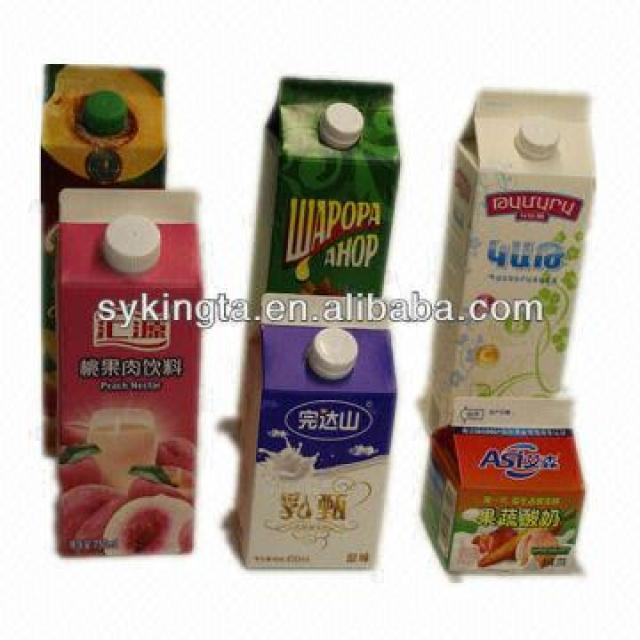Carton: (48, 180, 215, 570), (246, 287, 403, 604), (420, 388, 602, 592)
